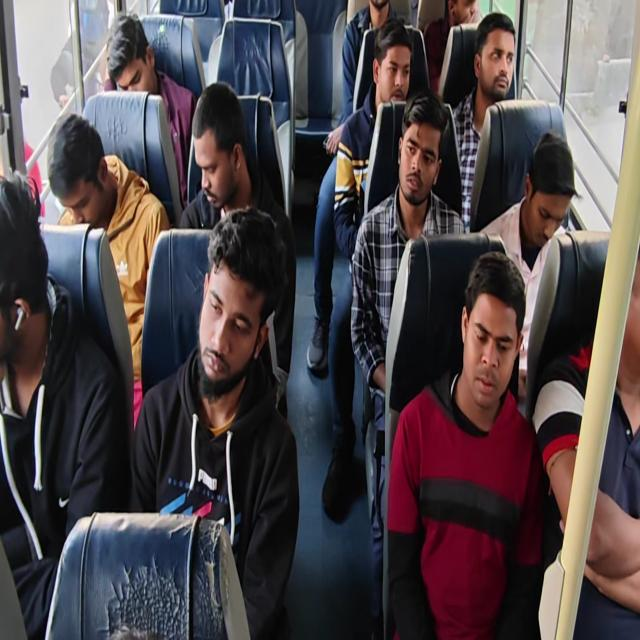person: (1, 1, 638, 638), (130, 205, 300, 638), (349, 89, 466, 636), (386, 250, 546, 638), (0, 170, 128, 638), (532, 240, 639, 638), (178, 82, 296, 420), (47, 112, 170, 432), (306, 18, 413, 374), (478, 130, 582, 406), (104, 12, 198, 206), (450, 11, 517, 231), (326, 0, 413, 156), (50, 0, 110, 110), (423, 0, 483, 94)
